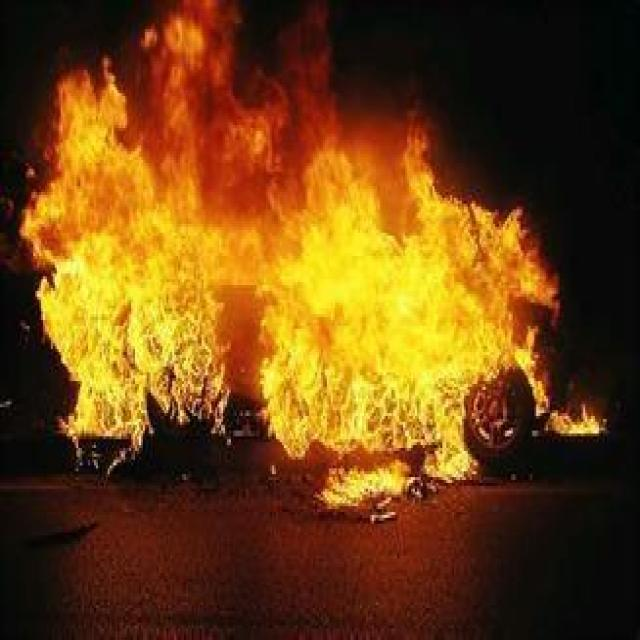fire: (4, 3, 617, 510)
